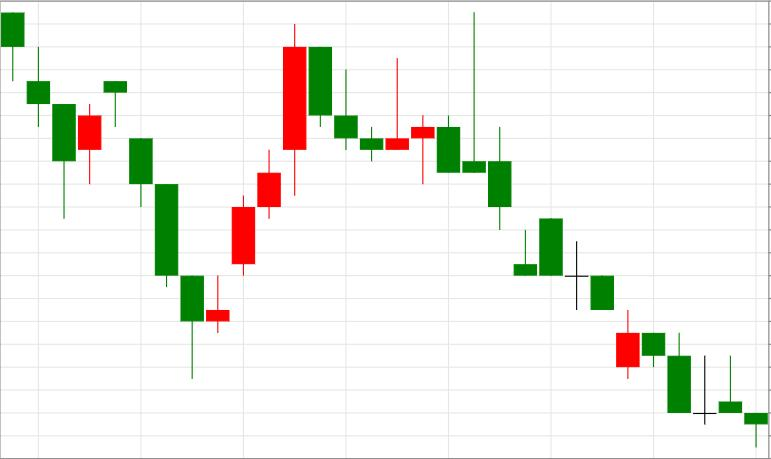hammer_rise: (104, 81, 203, 379)
three_white_soldiers_rise: (104, 24, 306, 379)
